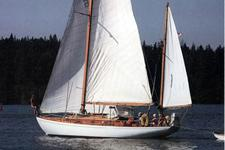Ship: (35, 1, 193, 139)
